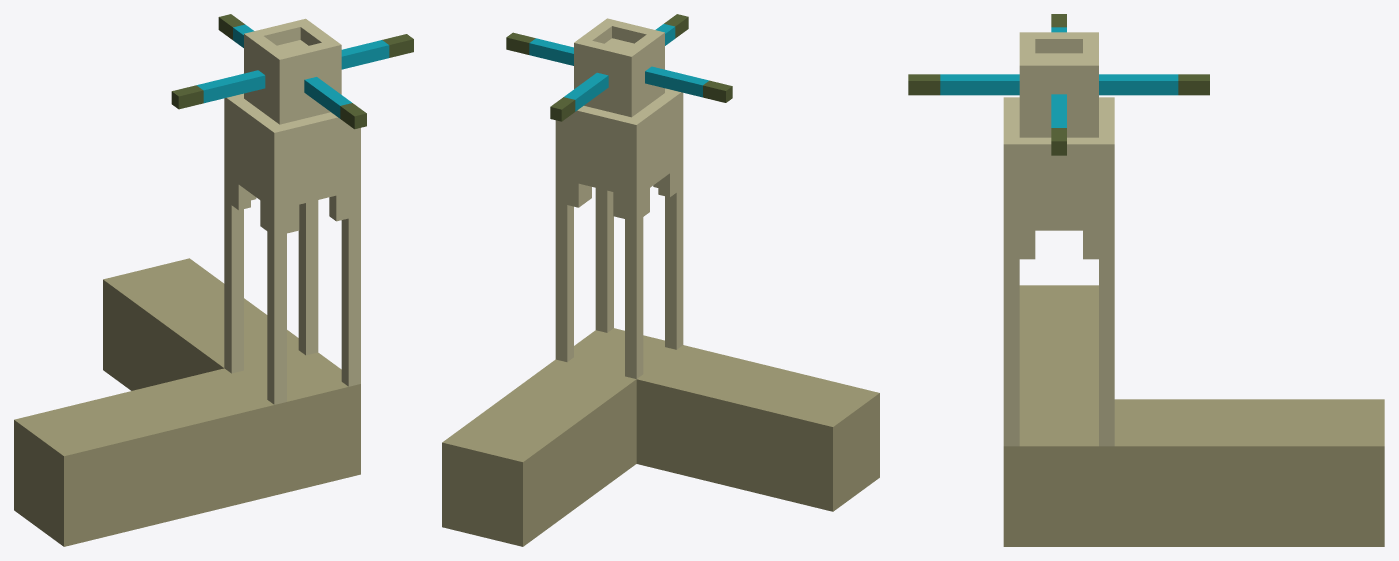
File: monu9-L.dae
The picture shows the model from 3 angles, left to right: view 1: azimuth 30°, elevation 25°; view 2: azimuth 150°, elevation 25°; view 3: azimuth 270°, elevation 25°; orthographic projection. The views are drawn at different scales.
Visible parts, largest first — view 1: defaultobject; view 2: defaultobject; view 3: defaultobject.
Boxes of the visible parts, bbox=[...] form: defaultobject: bbox=[14, 14, 413, 546]; defaultobject: bbox=[442, 14, 879, 546]; defaultobject: bbox=[908, 14, 1384, 546].
Bounding box in the file's own units: 30 × 33 × 30.
Materials: 1 (1 with a texture image).
